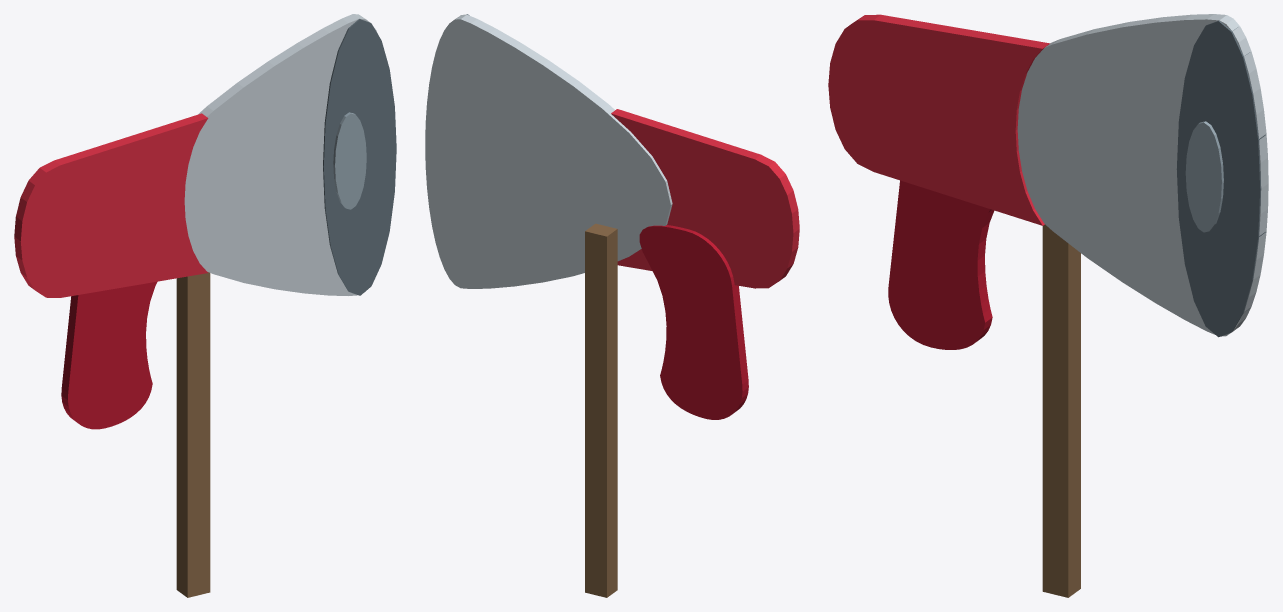
File: porte-voix.glb
The picture shows the model from 3 angles, left to right: view 1: azimuth 30°, elevation 25°; view 2: azimuth 150°, elevation 25°; view 3: azimuth 330°, elevation 25°; orthographic projection. The views are drawn at different scales.
Size of the model in its own units: 1 by 1.38 by 0.101.
